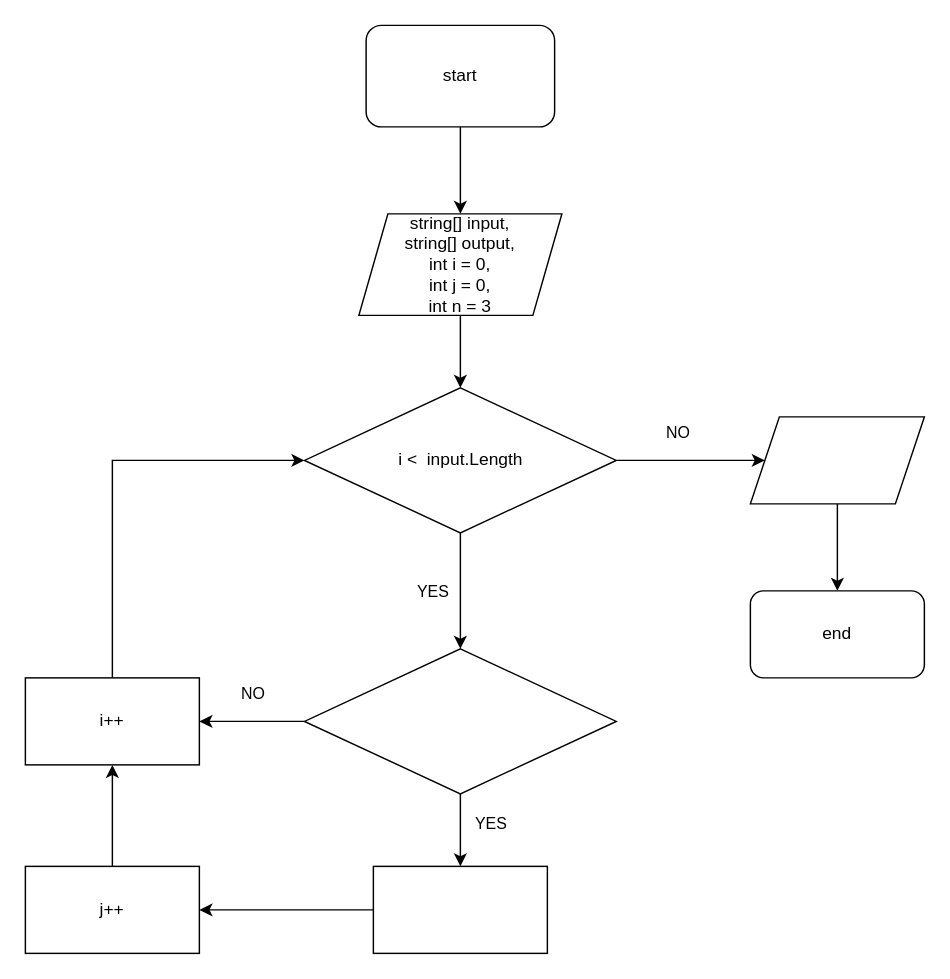
Some shapes in this 950 by 979 pixel diagram are drawn without their labels. The shapes that lost their labels are listed below. From the top down, each one's box as (x1, y1, x2, y2) in pixels, then its label:
(749, 415, 924, 504): output
(303, 647, 616, 794): input[i].Length <= n
(372, 865, 547, 953): output[j] = input[i]
